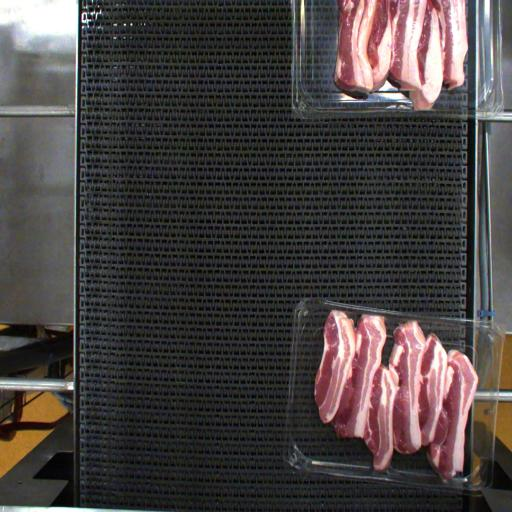packaging-error: (324, 298, 358, 318), (361, 302, 389, 324)
